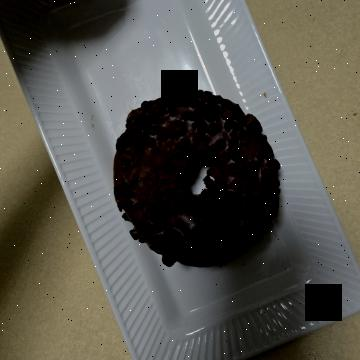doughnut: (74, 80, 282, 276)
